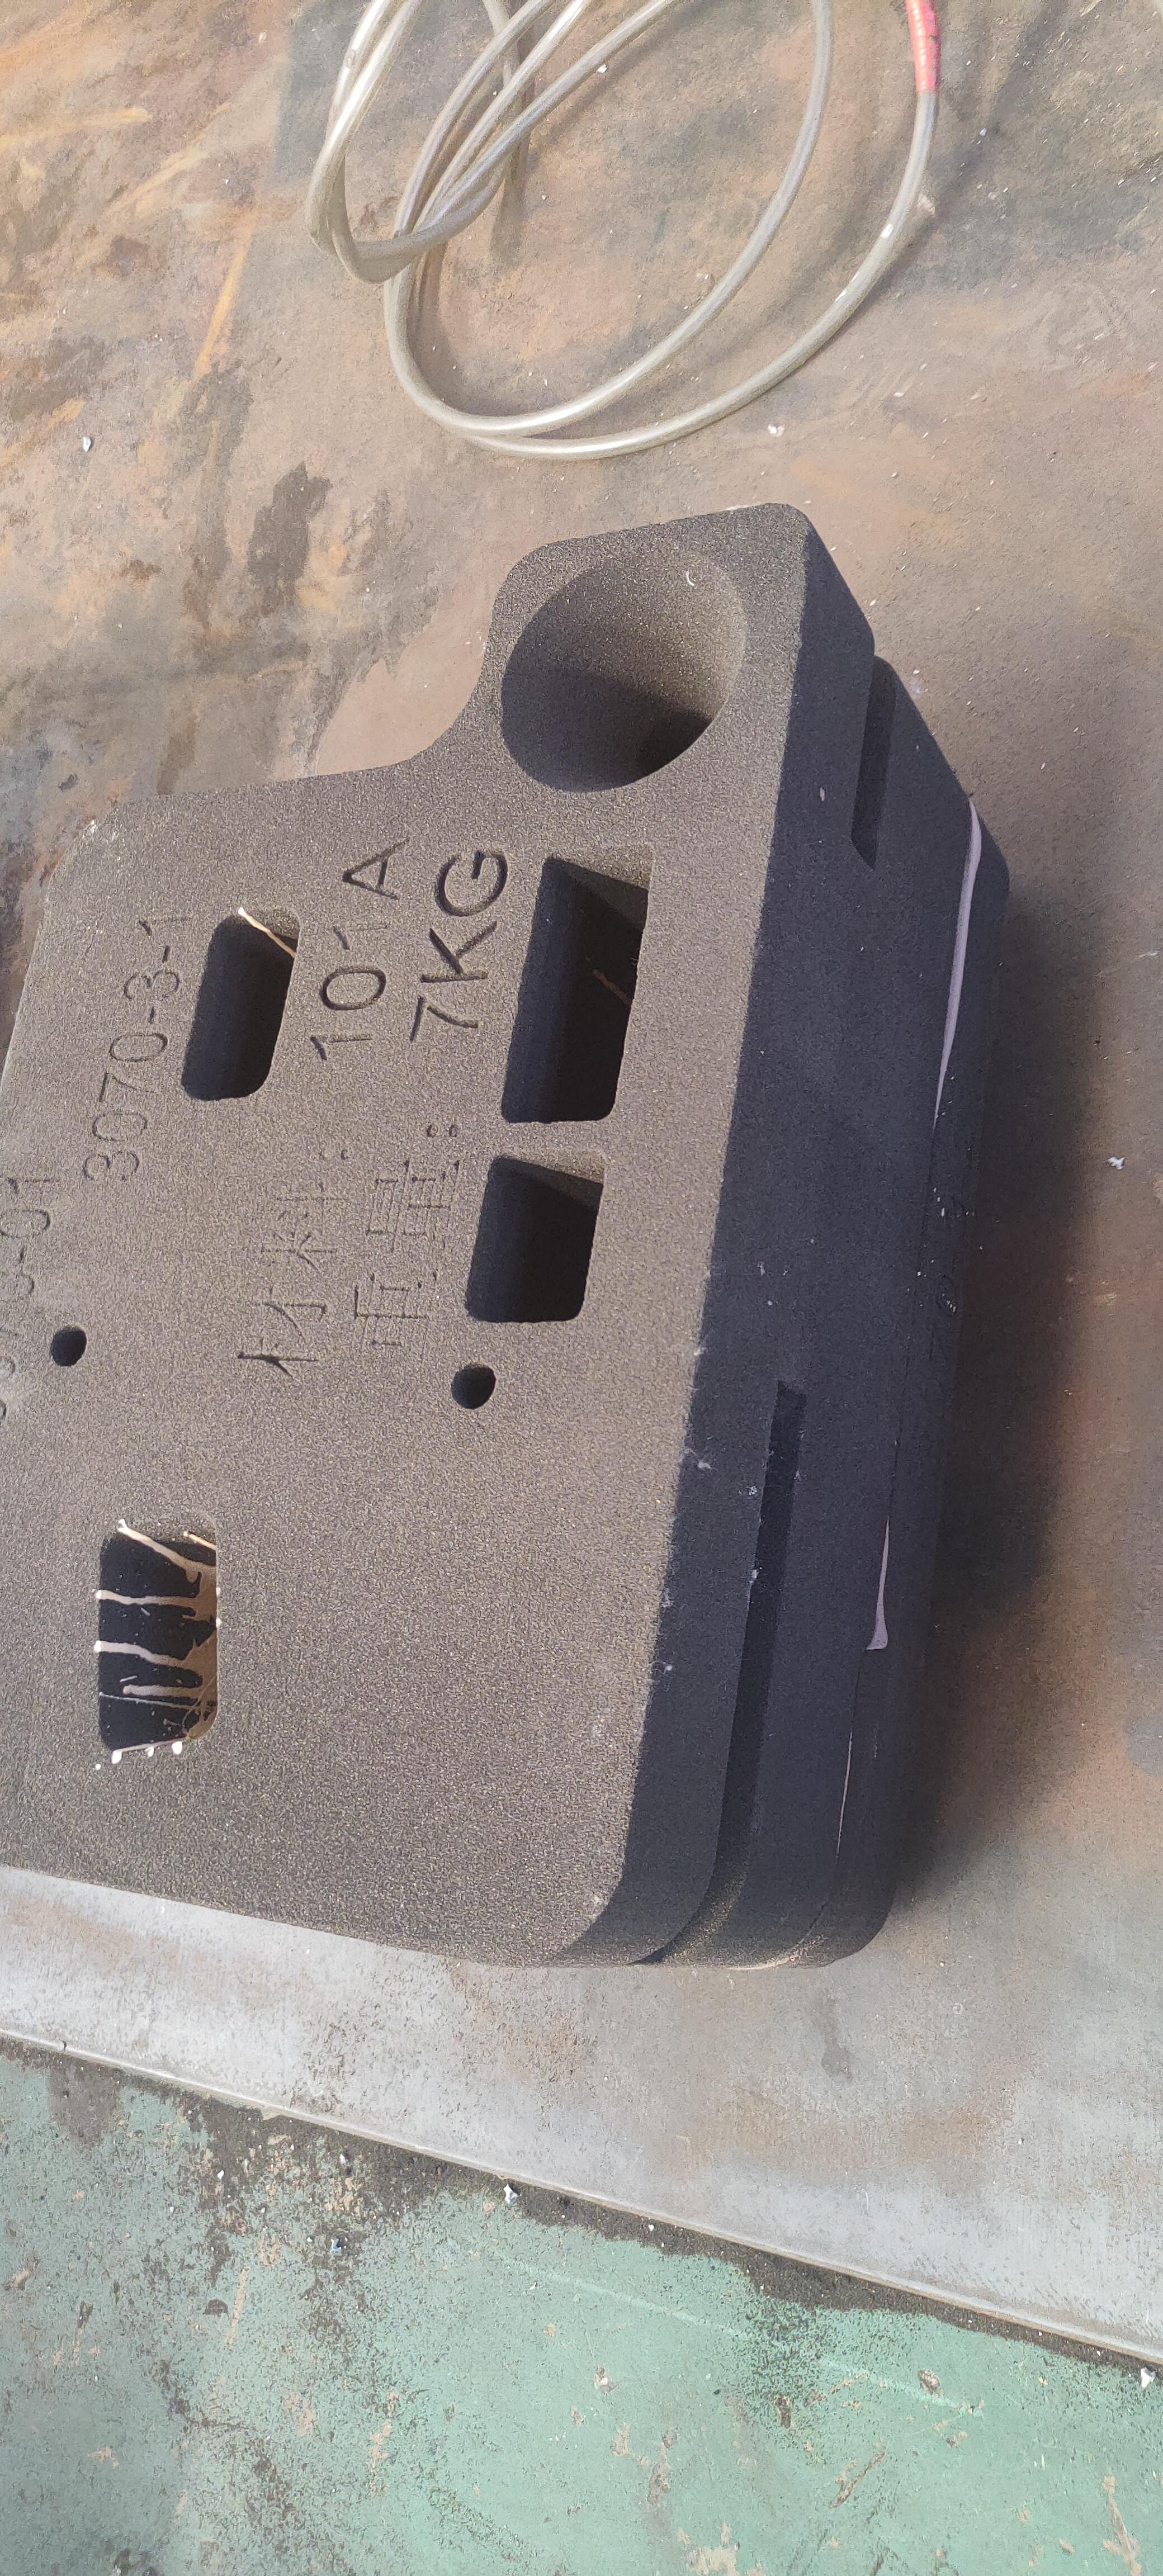pouring hole: (494, 547, 742, 800)
